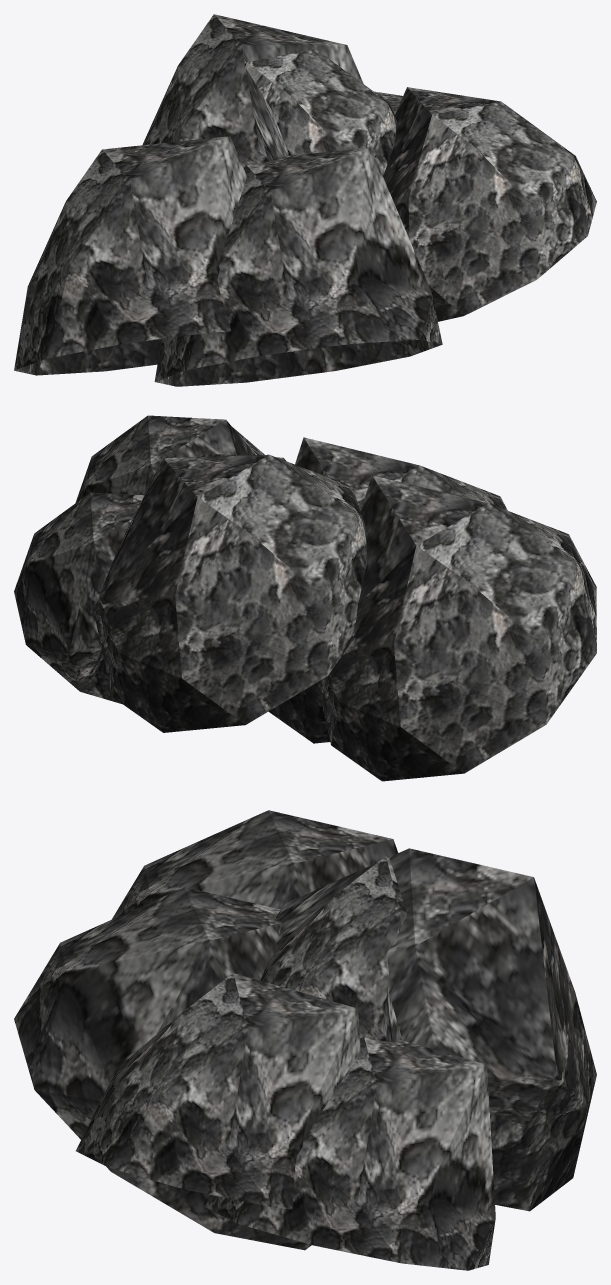
Rendered from Sanctuary_Rocks_01.fbx.
3 renders of one model, top to bottom at view 1: azimuth 30°, elevation 25°; view 2: azimuth 150°, elevation 25°; view 3: azimuth 270°, elevation 25°, orthographic. The views are drawn at different scales.
Visible parts, largest first — view 1: Rock01.001; view 2: Rock01.001; view 3: Rock01.001.
Boxes of the visible parts, box(x1,y1,x2,y2) form: Rock01.001: box(14, 14, 596, 386); Rock01.001: box(14, 415, 596, 781); Rock01.001: box(14, 810, 596, 1270).
Size of the model in its own units: 3.19 by 1.78 by 2.47.
